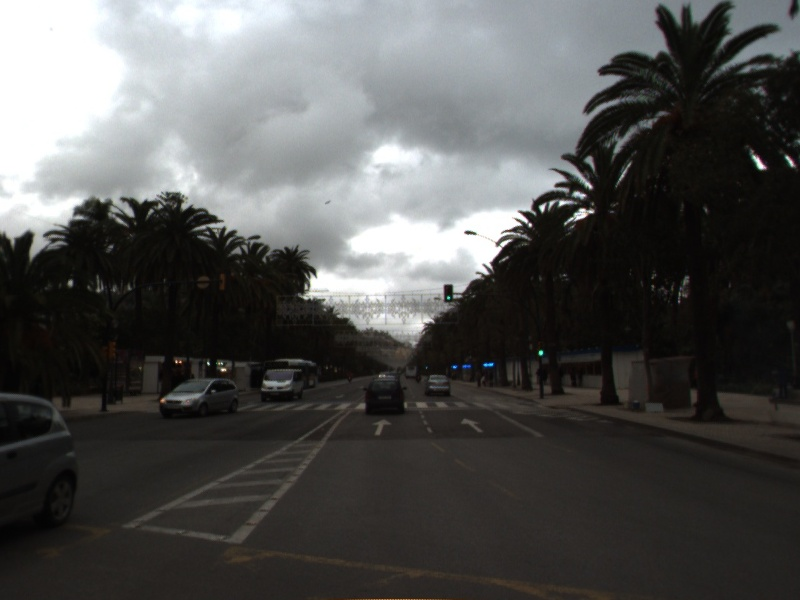STRAIGHT: (459, 416, 486, 435), (370, 417, 395, 437)
